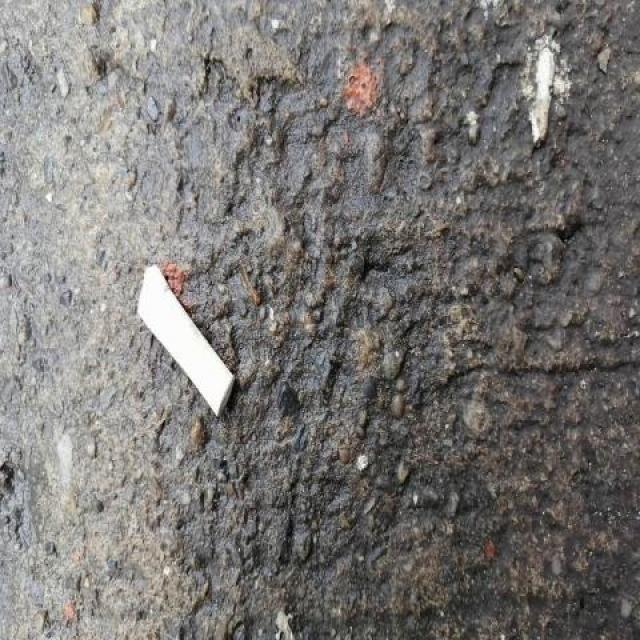non-organic waste: (132, 260, 236, 420)
